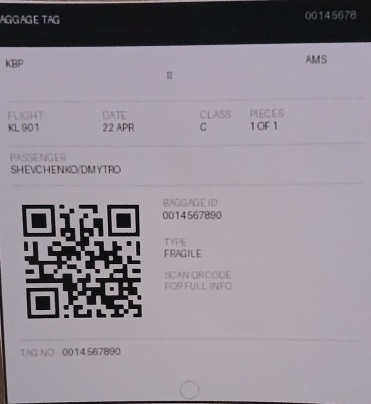LPN_bottom: (58, 345, 126, 357)
LPN_right: (159, 206, 224, 223)
